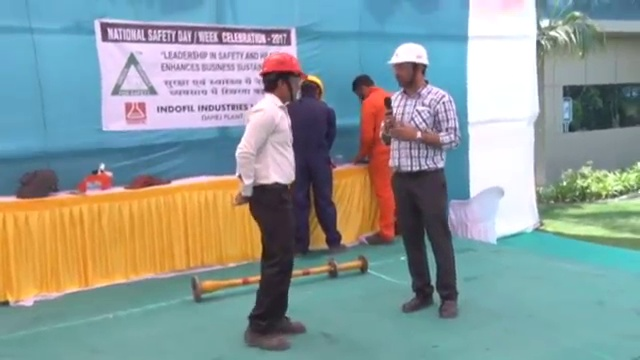helmet: (256, 50, 308, 80), (382, 40, 434, 69), (301, 72, 326, 91)
helmet_off: (349, 72, 377, 100)
helmet_on: (255, 49, 310, 106), (382, 40, 435, 92), (300, 72, 326, 103)
person: (232, 51, 310, 351), (382, 40, 463, 320), (292, 73, 349, 253), (349, 72, 398, 244)
